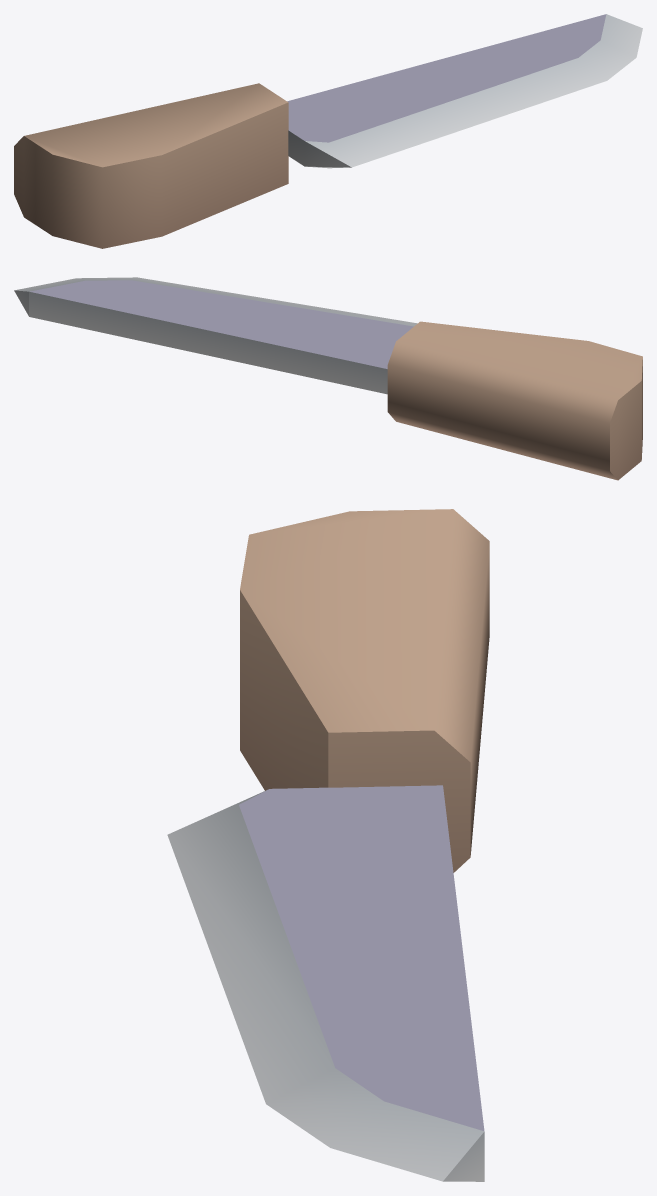
The model's file is utensil-knife.glb.
3 views of the same model, one above another, from view 1: azimuth 30°, elevation 25°; view 2: azimuth 150°, elevation 25°; view 3: azimuth 270°, elevation 25° (orthographic). The views are drawn at different scales.
Visible parts, largest first — view 1: utensil-knife; view 2: utensil-knife; view 3: utensil-knife.
Part boxes in pixels (x1,y1,x2,y2): utensil-knife: (14,14,642,248); utensil-knife: (14,277,642,480); utensil-knife: (167,509,489,1181).
Bounding box in the file's own units: 0.3879 × 0.049 × 0.0891.
